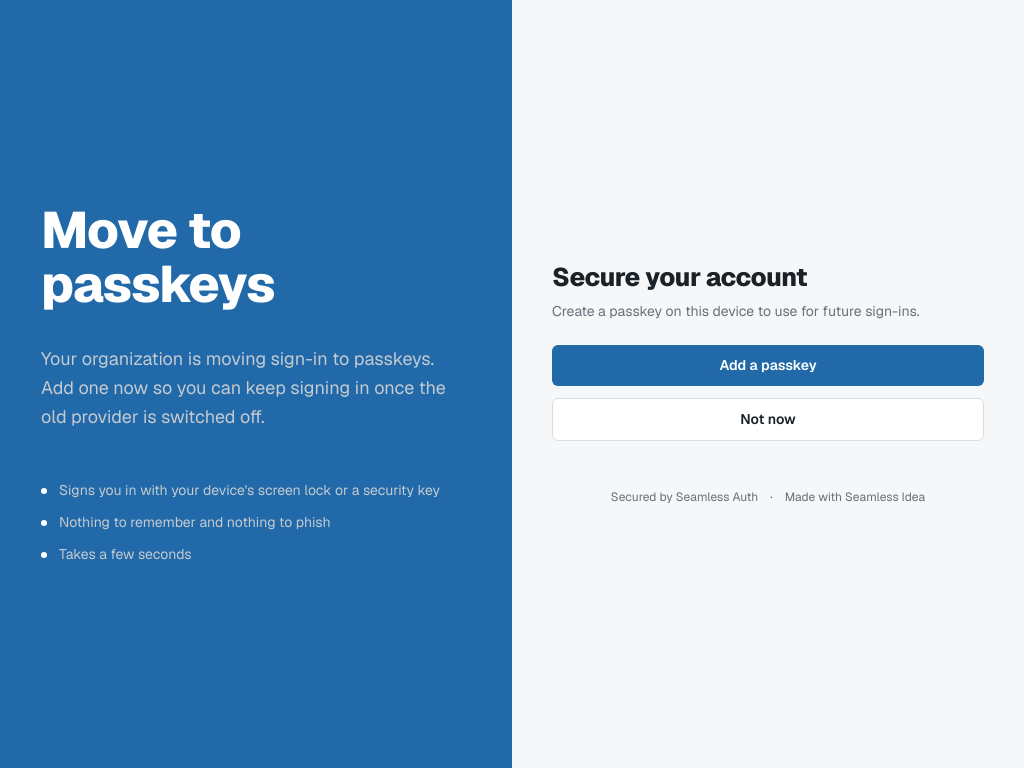
Test: EnrollPasskey › asks the user to sign in again when the session has expired
Click the button "Add a passkey" at (768, 365), box [552,345,984,386]
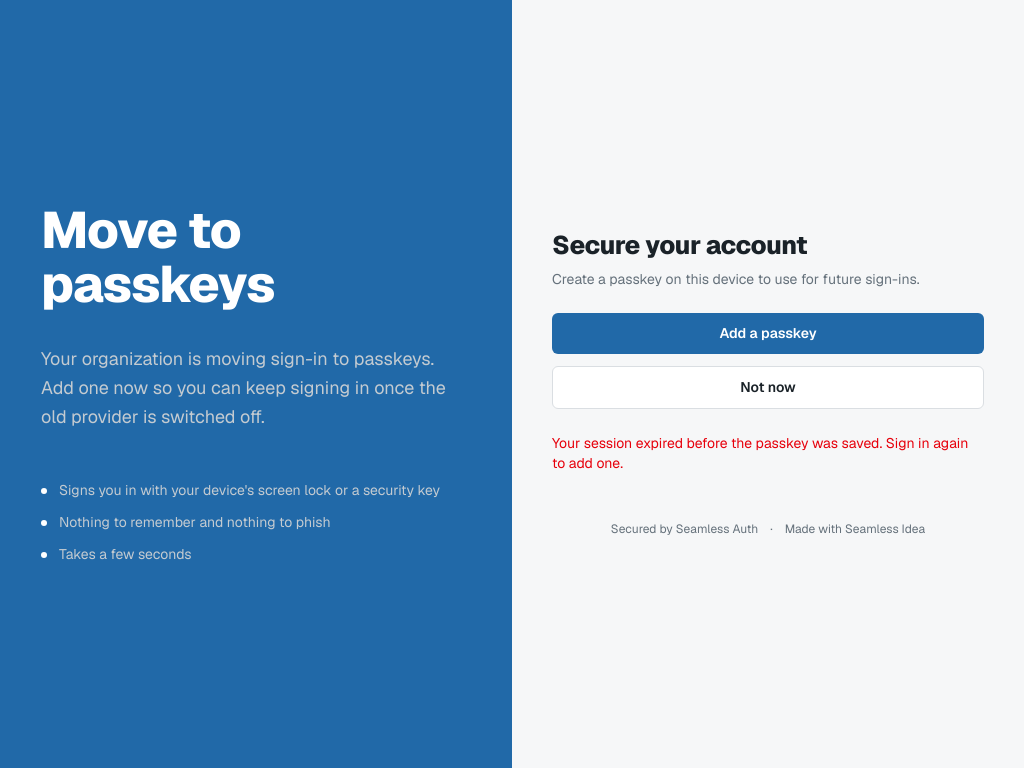
Expected: the text "Sign in again" is shown, [552,434,968,472]
